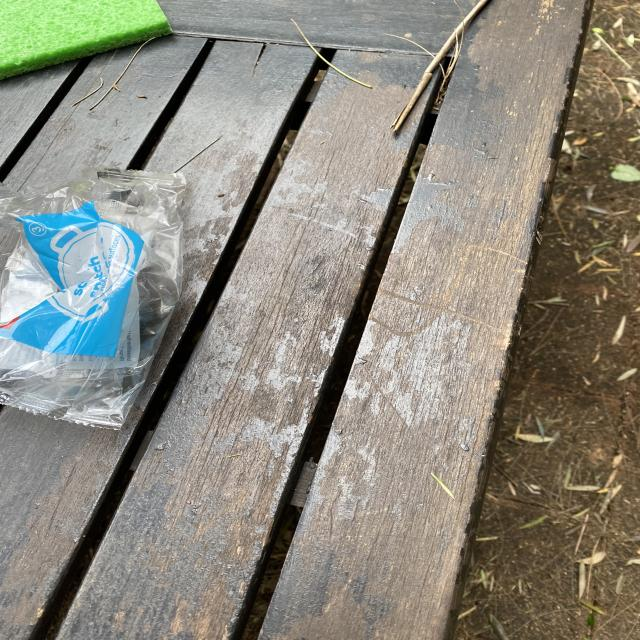wrappers: (0, 166, 189, 430)
